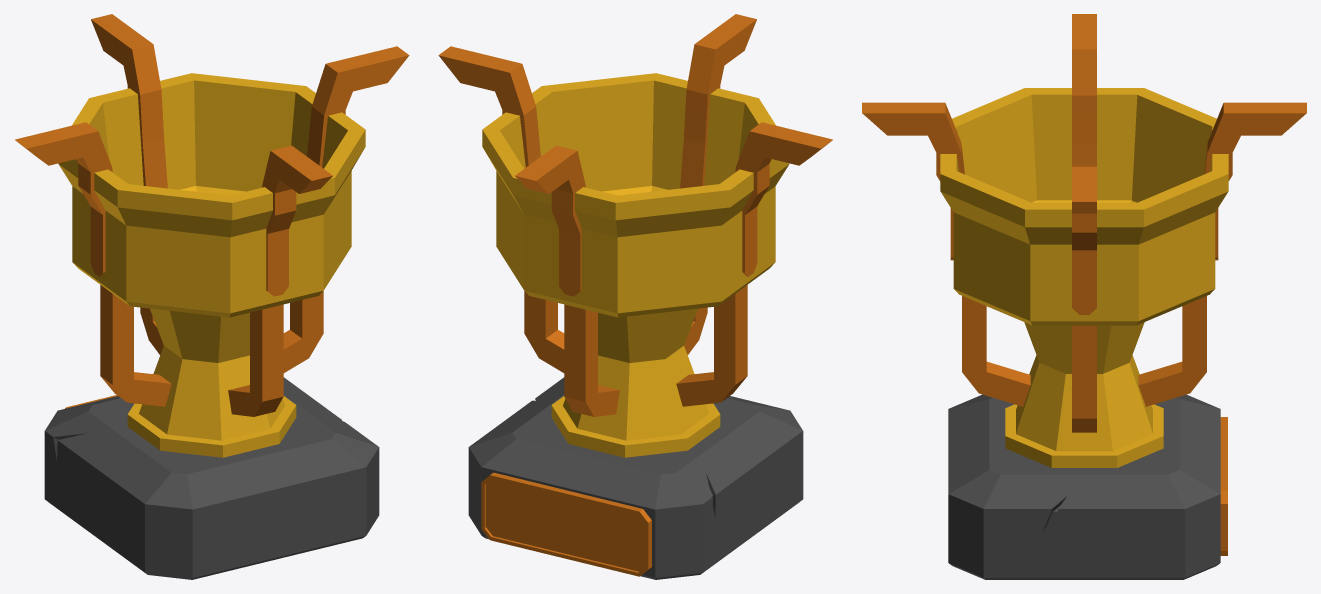
The model's file is Custom Trophy.fbx.
3 views of the same model, side by side, from view 1: azimuth 30°, elevation 25°; view 2: azimuth 150°, elevation 25°; view 3: azimuth 270°, elevation 25° (orthographic).
Parts seen in each view (by area): view 1: Goblet, Base, DecorationsTop, DecorationsMiddle; view 2: Goblet, Base, DecorationsTop, Plaque, DecorationsMiddle; view 3: Goblet, Base, DecorationsTop, DecorationsMiddle, Plaque.
Part boxes in pixels (left/top/right/bottom): Goblet: left=58, top=73, right=365, bottom=457; Base: left=44, top=377, right=379, bottom=579; DecorationsTop: left=15, top=14, right=409, bottom=296; DecorationsMiddle: left=100, top=285, right=323, bottom=416; Goblet: left=482, top=73, right=789, bottom=457; Base: left=468, top=377, right=803, bottom=579; DecorationsTop: left=438, top=14, right=832, bottom=296; Plaque: left=481, top=472, right=651, bottom=576; DecorationsMiddle: left=524, top=285, right=747, bottom=416; Goblet: left=940, top=88, right=1228, bottom=467; Base: left=948, top=394, right=1220, bottom=579; DecorationsTop: left=862, top=14, right=1306, bottom=314; DecorationsMiddle: left=962, top=296, right=1206, bottom=432; Plaque: left=1220, top=417, right=1227, bottom=555.
Bounding box in the file's own units: 28.18 × 29.1 × 28.18.
